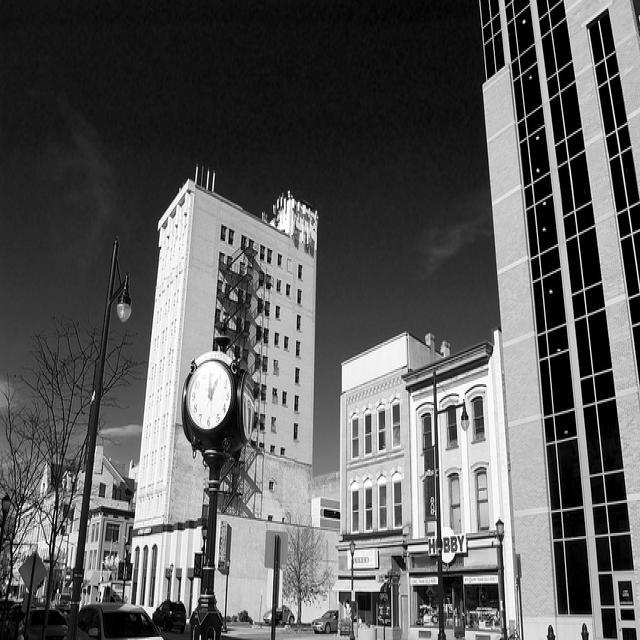fire_hydrant: (580, 622, 589, 638), (546, 624, 555, 638)
